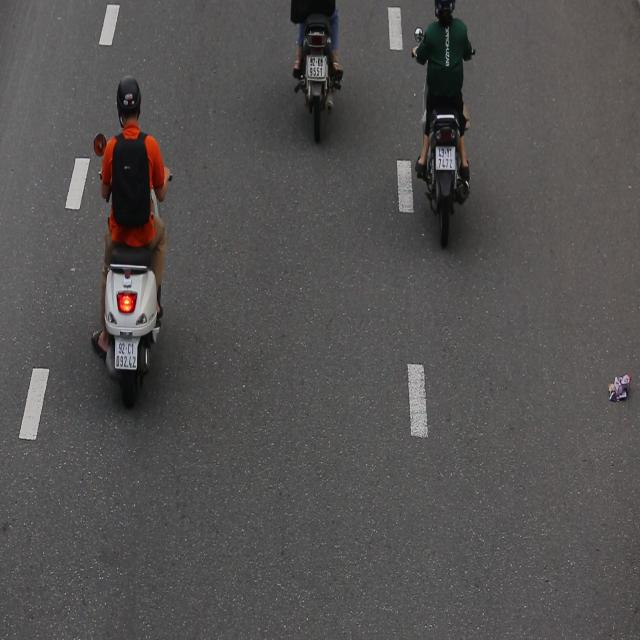motorbike: (85, 77, 168, 414)
